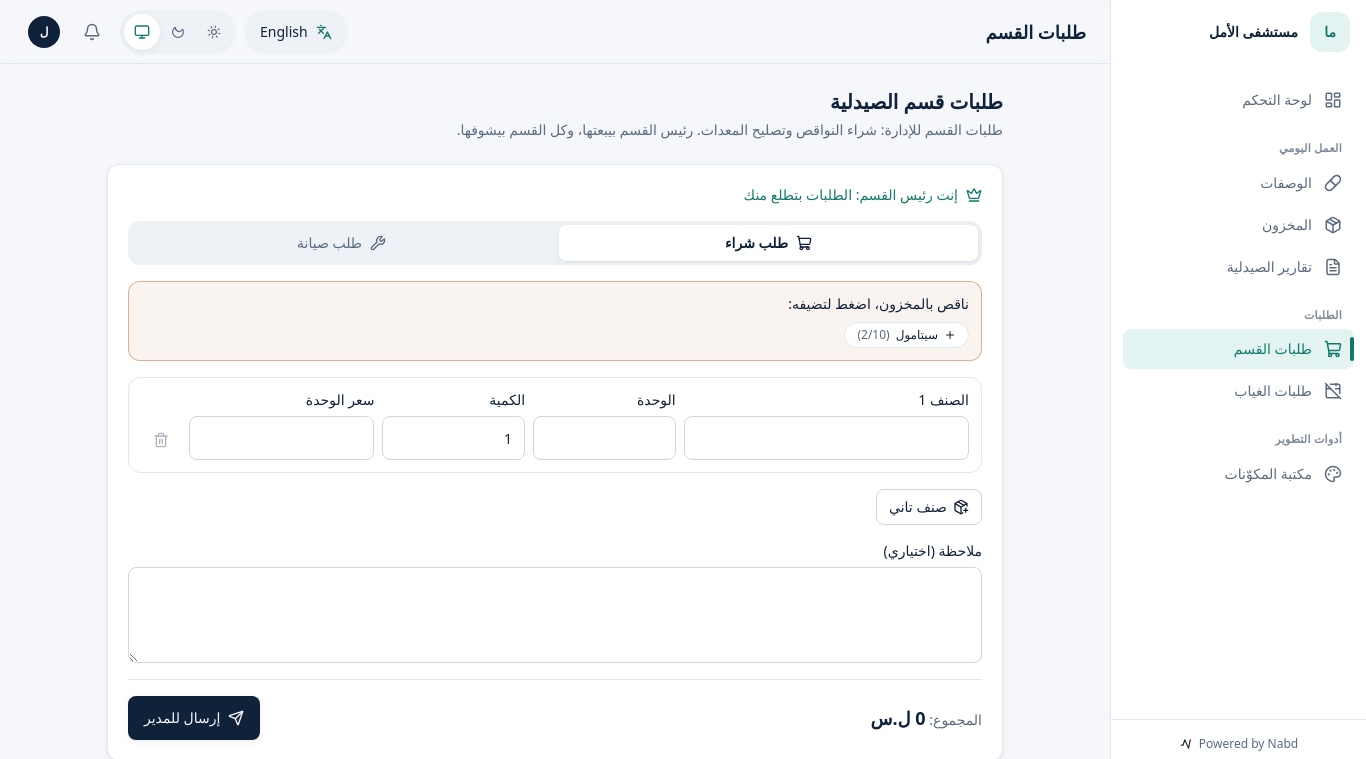
Test: DepartmentRequestsPage (task 4.6) › the head adds what is short and sends a purchase request with its total
Click the button "سيتامول (2/10)".
click(907, 335)  # box left=844, top=322, right=969, bottom=348
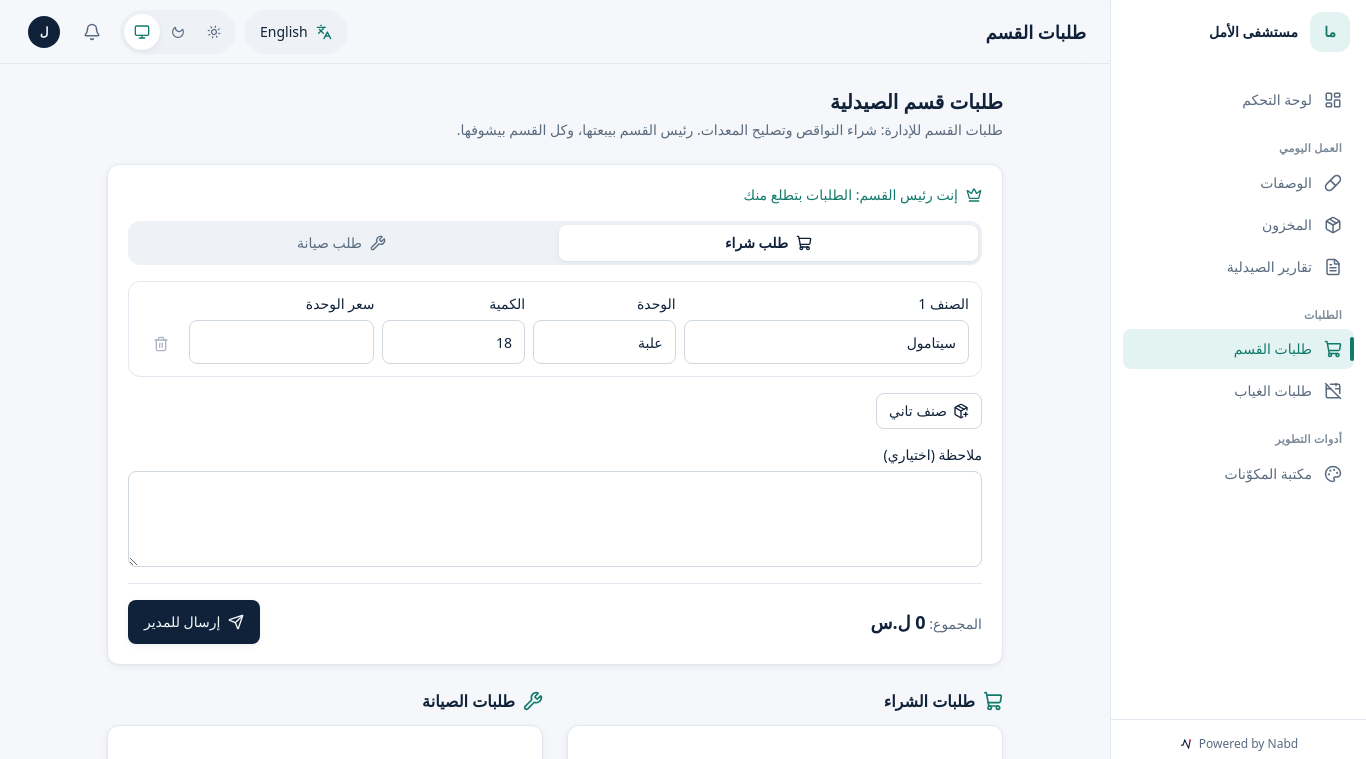
Result: the number field labelled "الكمية" holds "18" at left=382, top=320, right=525, bottom=364
Type "2500" into the number field labelled "سعر الوحدة".
click(282, 342); type("2500")  # box left=189, top=320, right=374, bottom=364
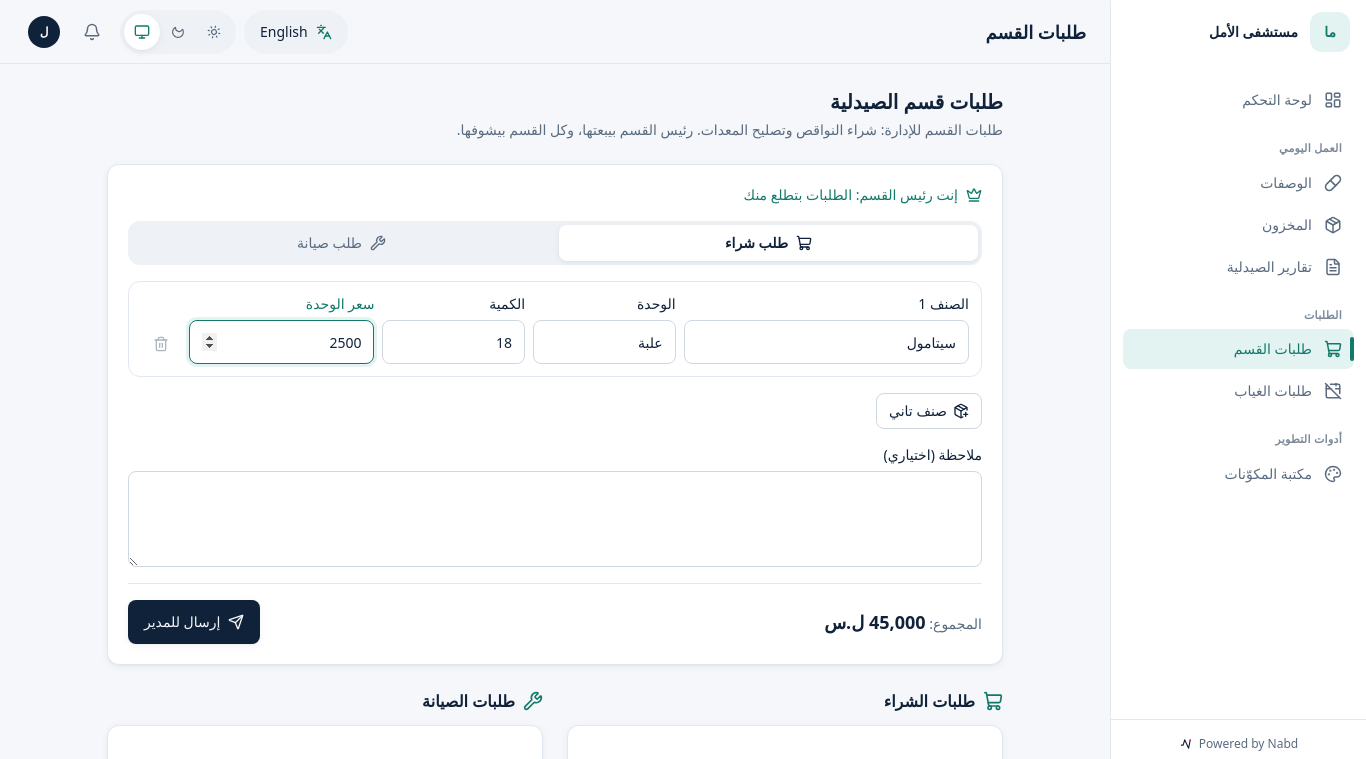
Expected: the form named "طلب شراء" shows "ل.س", left=824, top=610, right=926, bottom=634
Click the button "إرسال للمدير".
click(194, 622)  # box left=128, top=600, right=260, bottom=644
(page scrolled)
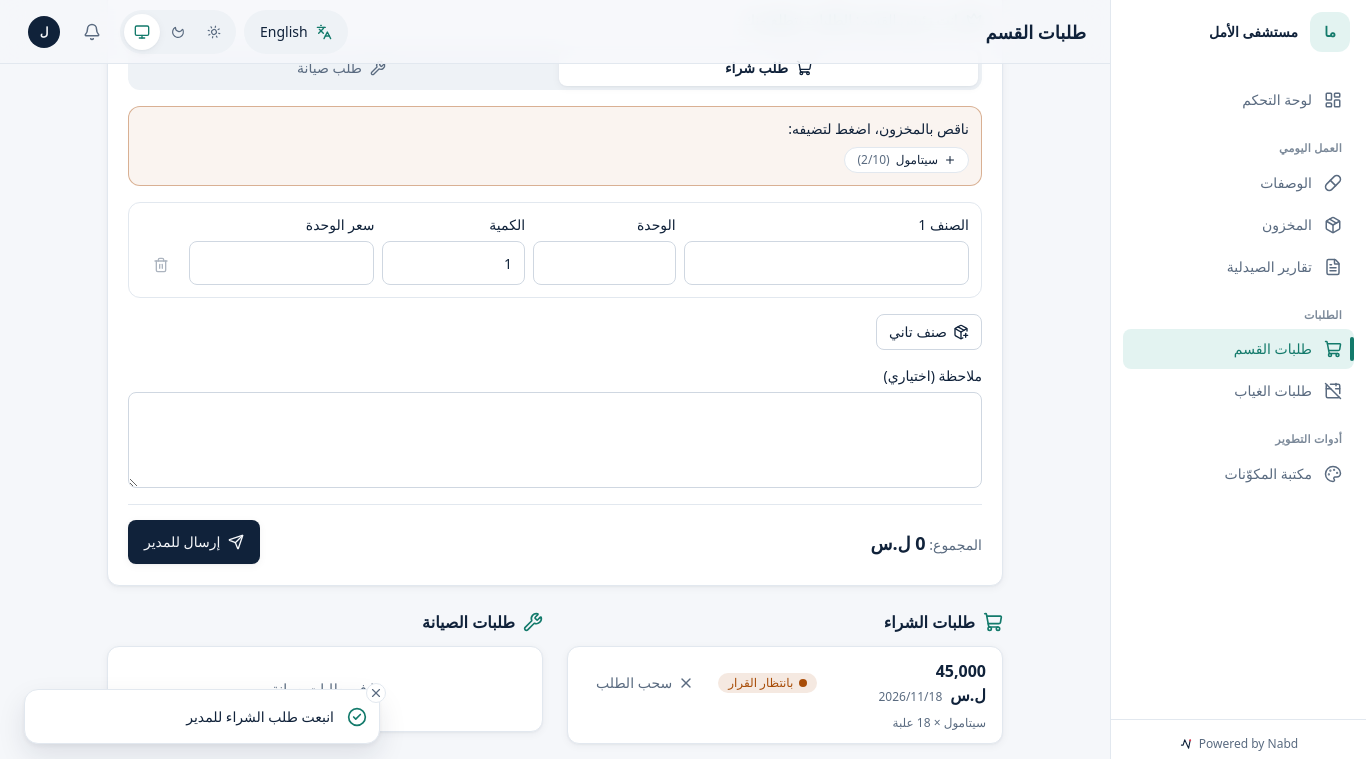
Result: the text "بانتظار القرار" is shown at left=718, top=673, right=817, bottom=693
